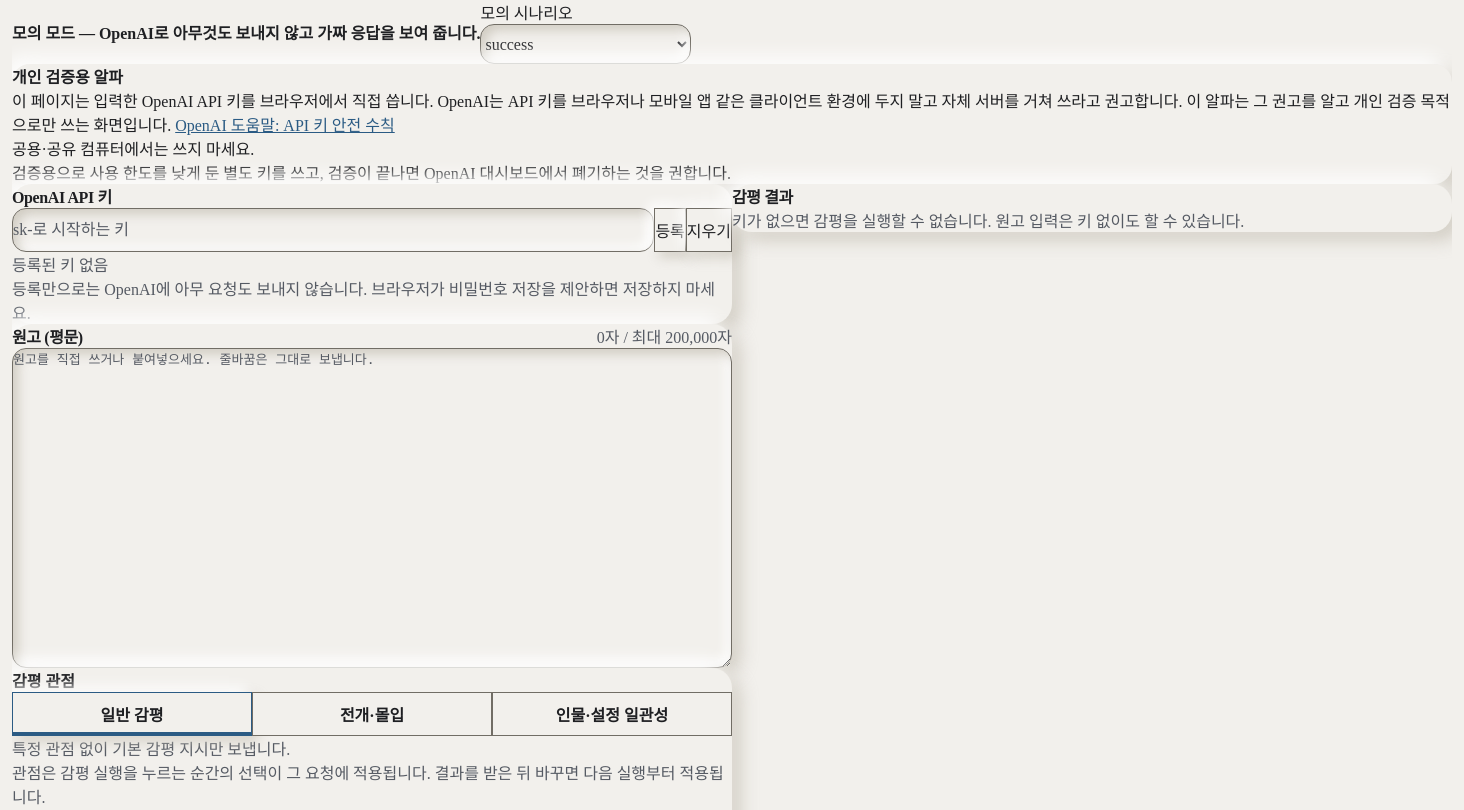
Scenario: QuickReview (알파 빠른 감평) › 전송 고지에 선택한 관점의 감평 지시가 함께 간다고 알리고, 관점 설명을 연결한다
Step 1. Click the radio button labelled "인물·설정 일관성" → (612, 714), box top-left (492, 692), bottom-right (732, 736)
(page scrolled)
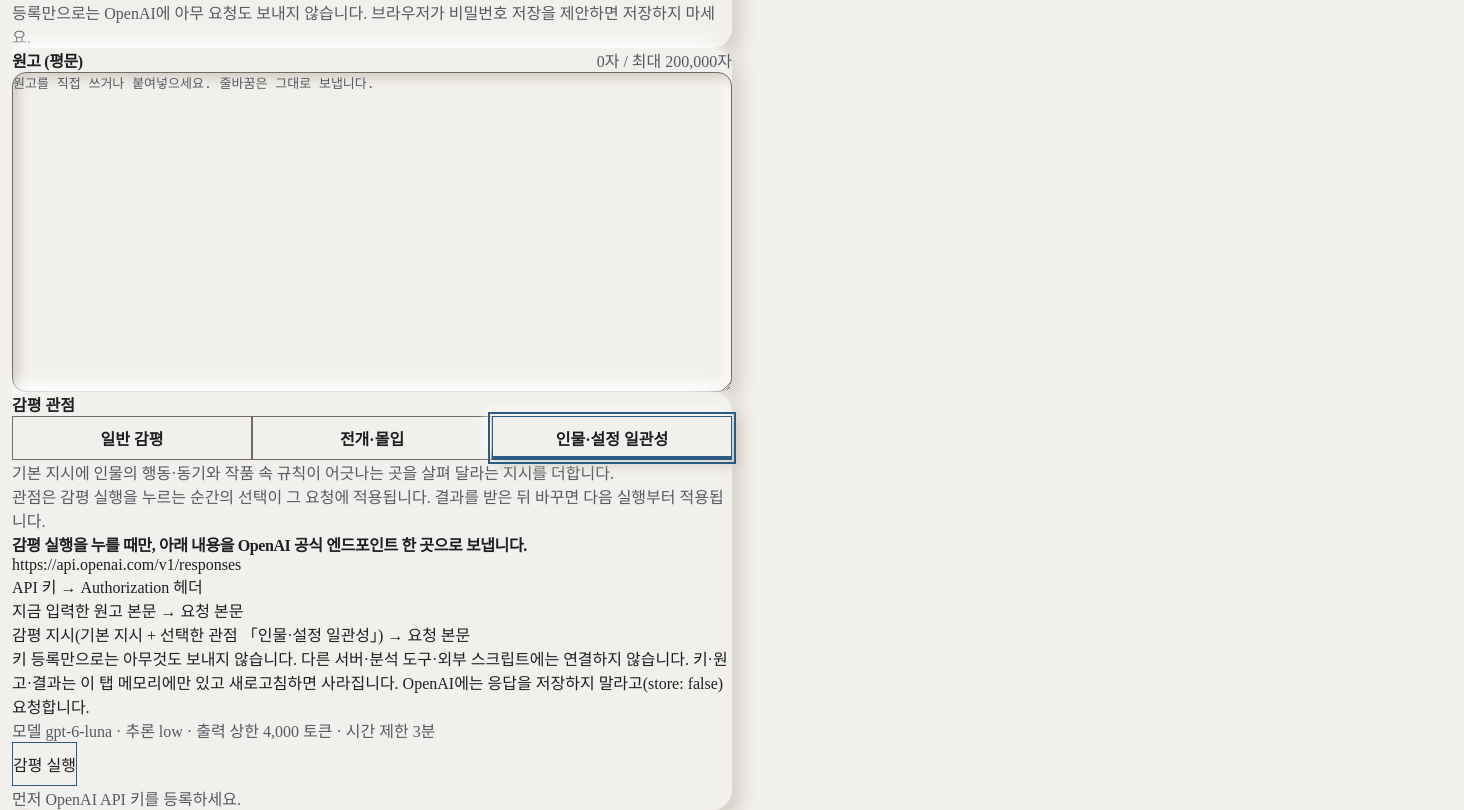
Now the element with id "send-disclosure" shows "선택한 관점 「인물·설정 일관성」", box top-left (12, 627), bottom-right (470, 644)
